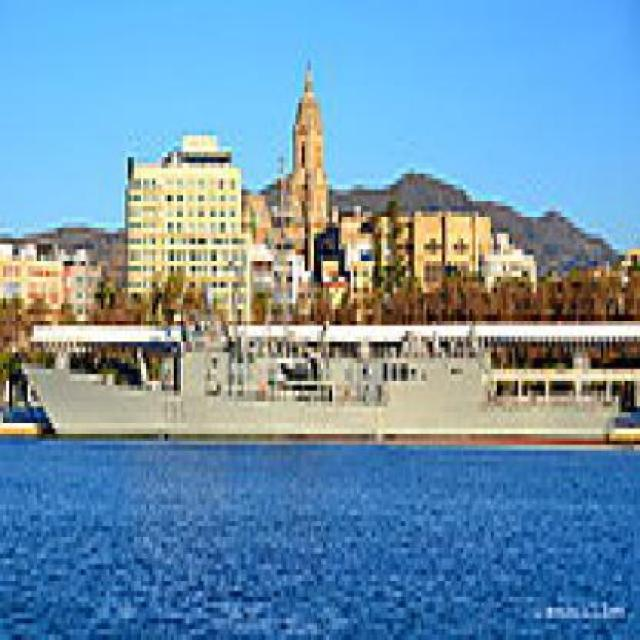warship2: (28, 180, 620, 457)
